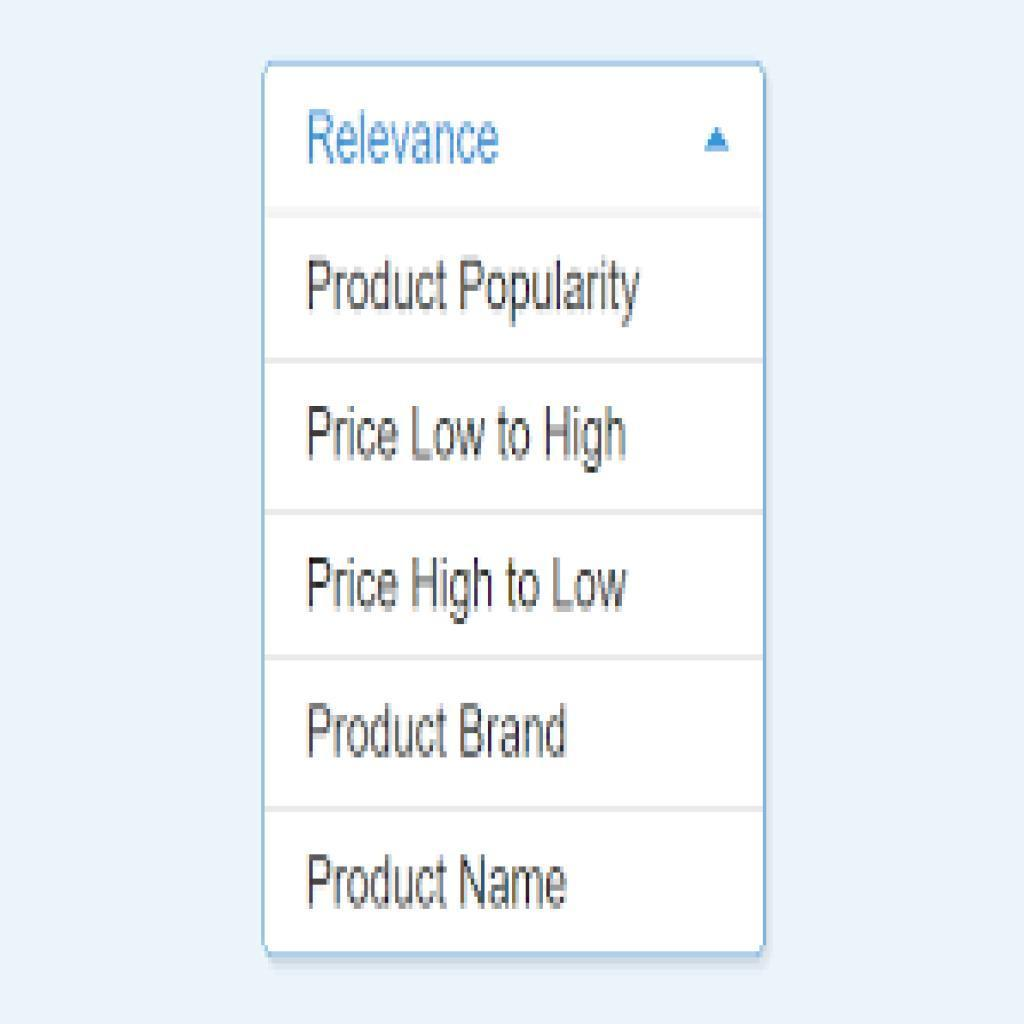dropdown: (265, 64, 768, 216)
